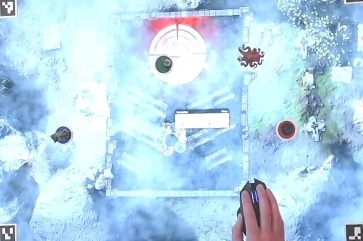blue: (50, 126, 73, 149)
giant_red_octopus: (240, 47, 263, 70)
green: (152, 54, 175, 77)
red: (276, 119, 299, 142)
